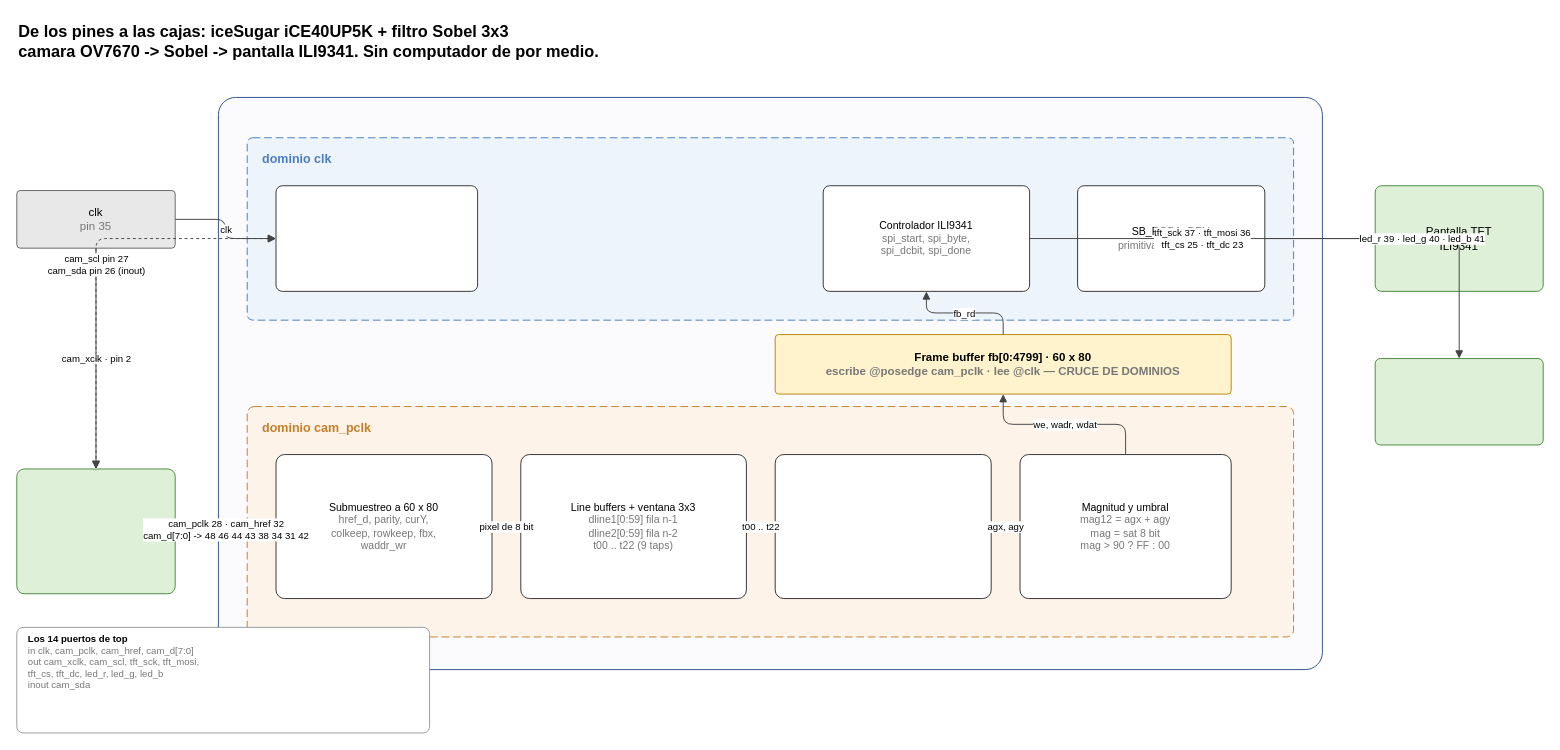
The diagram is 1560 pixels wide and 750 high, and some of its shapes have lost their labels. The shapes that lost their labels are listed below. From the top down, each one's box as (x1, y1, x2, y2) in pixels, then its label:
(275, 185, 478, 291): Configuracion SCCB escribe los registros de la camara al arrancar
(217, 96, 1322, 670): module top — cam_sobel_display.v
(1374, 358, 1543, 445): LED RGB estado
(16, 468, 175, 594): Camara OV7670 modulo externo
(774, 454, 991, 599): Sobel 3x3 gxp, gxn, gyp, gyn (1-2-1) agx = |gxp - gxn| agy = |gyp - gyn|
